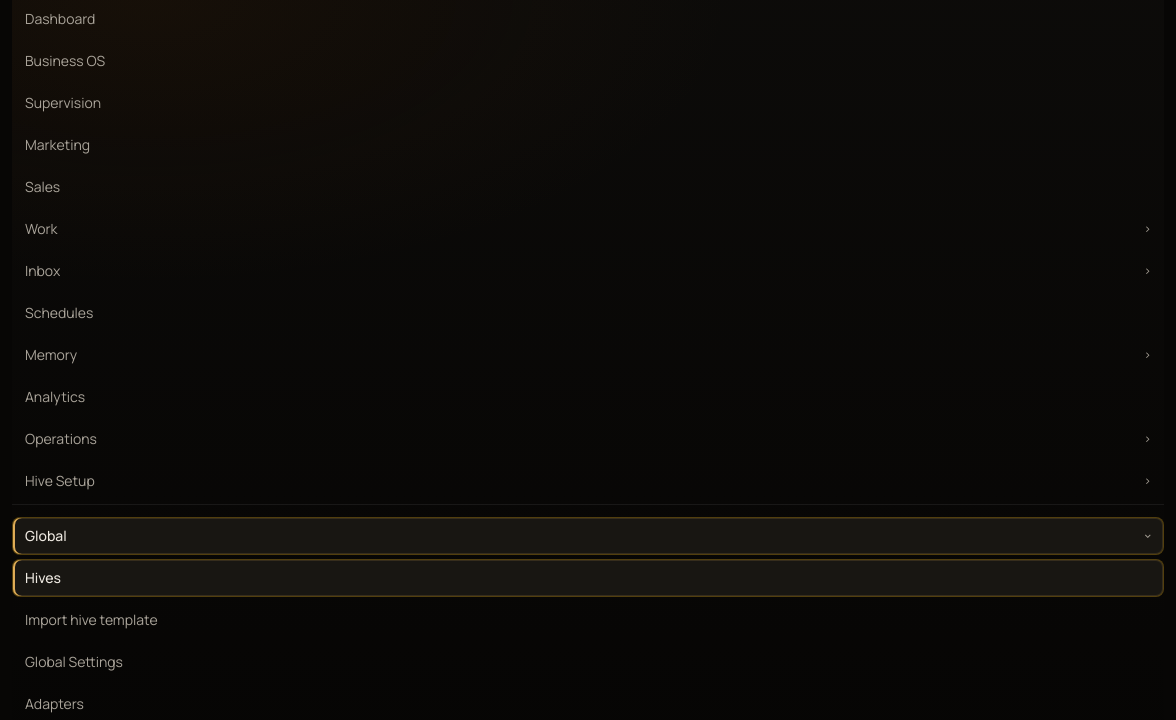
Test case: <NavLinks> › lets the always-visible Global section collapse when clicked
Check: the link "Hives" is shown, box [12,559,1164,597]
Click the button "Global ›" at (46, 536), box [12,517,1164,555]
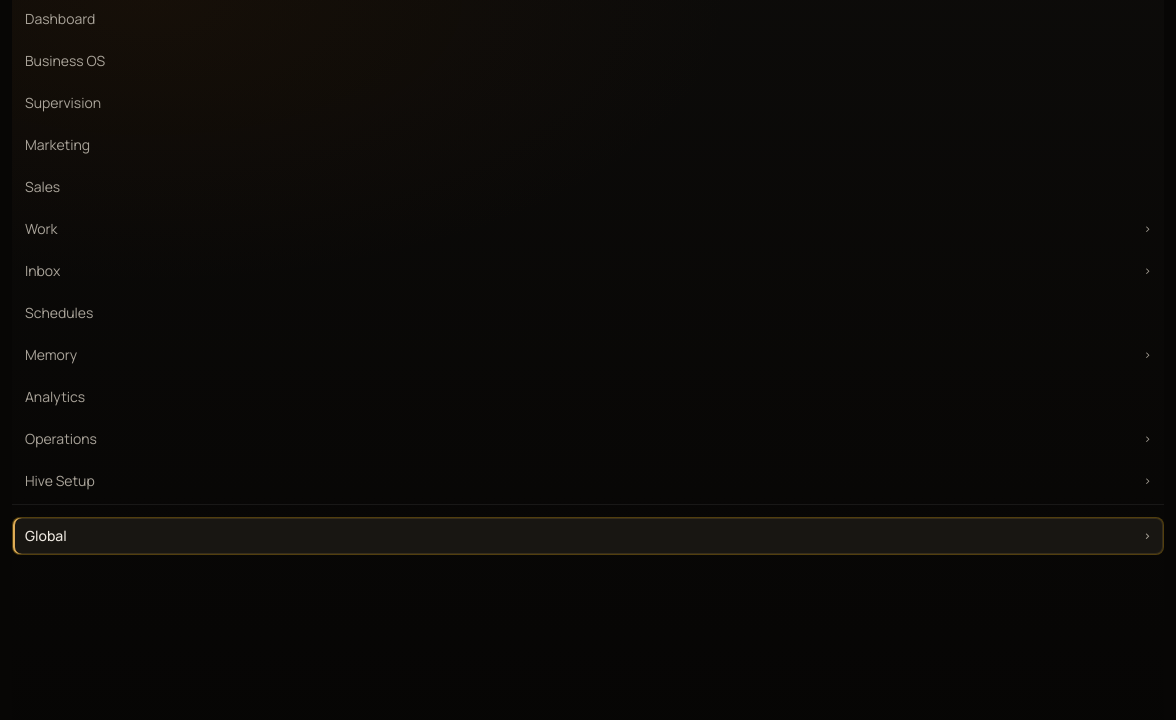
Check: the link "Hives" is gone
